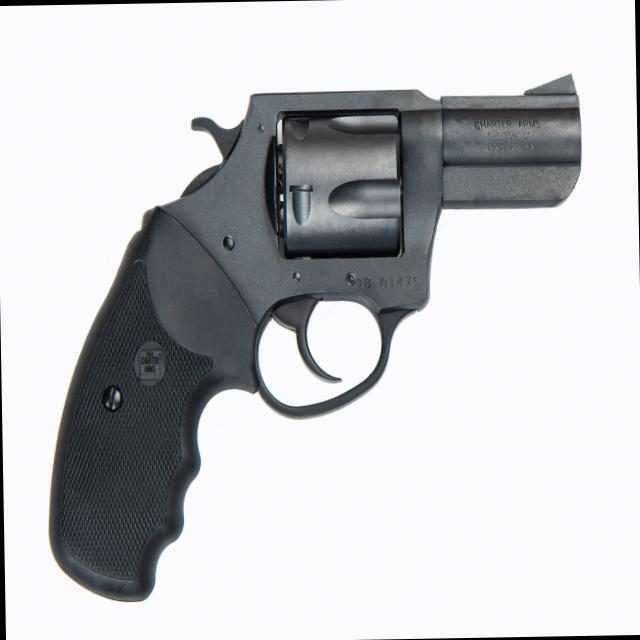Gun: (0, 48, 591, 594)
